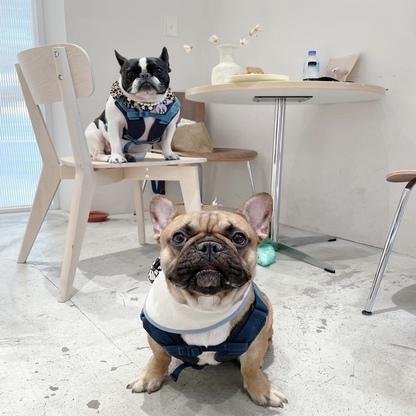bulldog: (123, 190, 290, 409), (84, 46, 182, 165)
